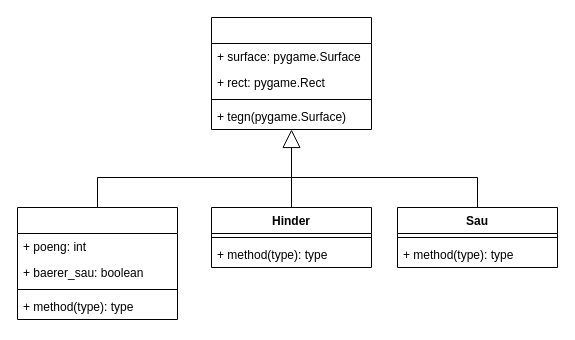
Some shapes in this 575 by 340 pixel diagram are drawn without their labels. Each missing label, with the box of its shape:
Figur: (210, 16, 372, 130)
Menneske: (16, 206, 178, 320)
